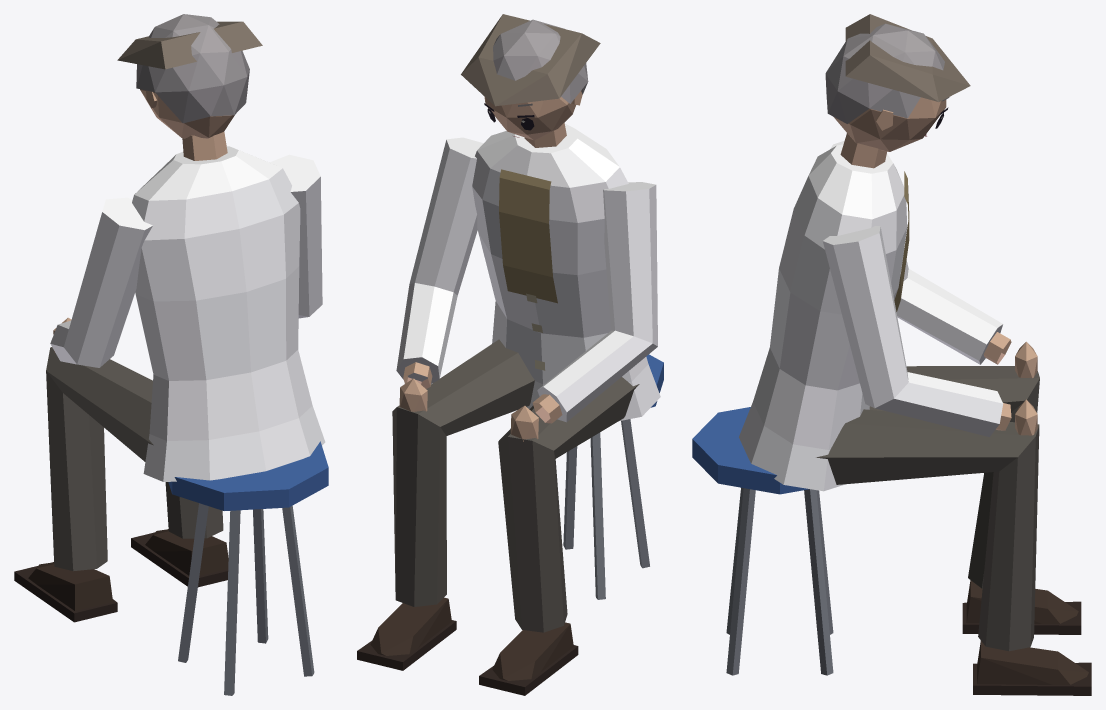
File: spectator_l.glb
The picture shows the model from 3 angles, left to right: view 1: azimuth 30°, elevation 25°; view 2: azimuth 150°, elevation 25°; view 3: azimuth 270°, elevation 25°; orthographic projection. The views are drawn at different scales.
Visible parts, largest first — view 1: spectator_l; view 2: spectator_l; view 3: spectator_l.
Boxes of the visible parts, <box> form: spectator_l: <box>14,14,328,695</box>; spectator_l: <box>357,14,663,695</box>; spectator_l: <box>692,14,1091,695</box>.
Bounding box in the file's own units: 0.5822 × 1.34 × 0.775.
